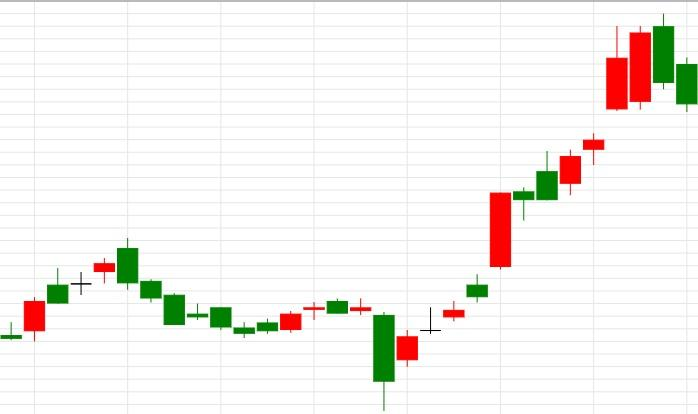bearish_engulfing_fall: (0, 238, 138, 341)
